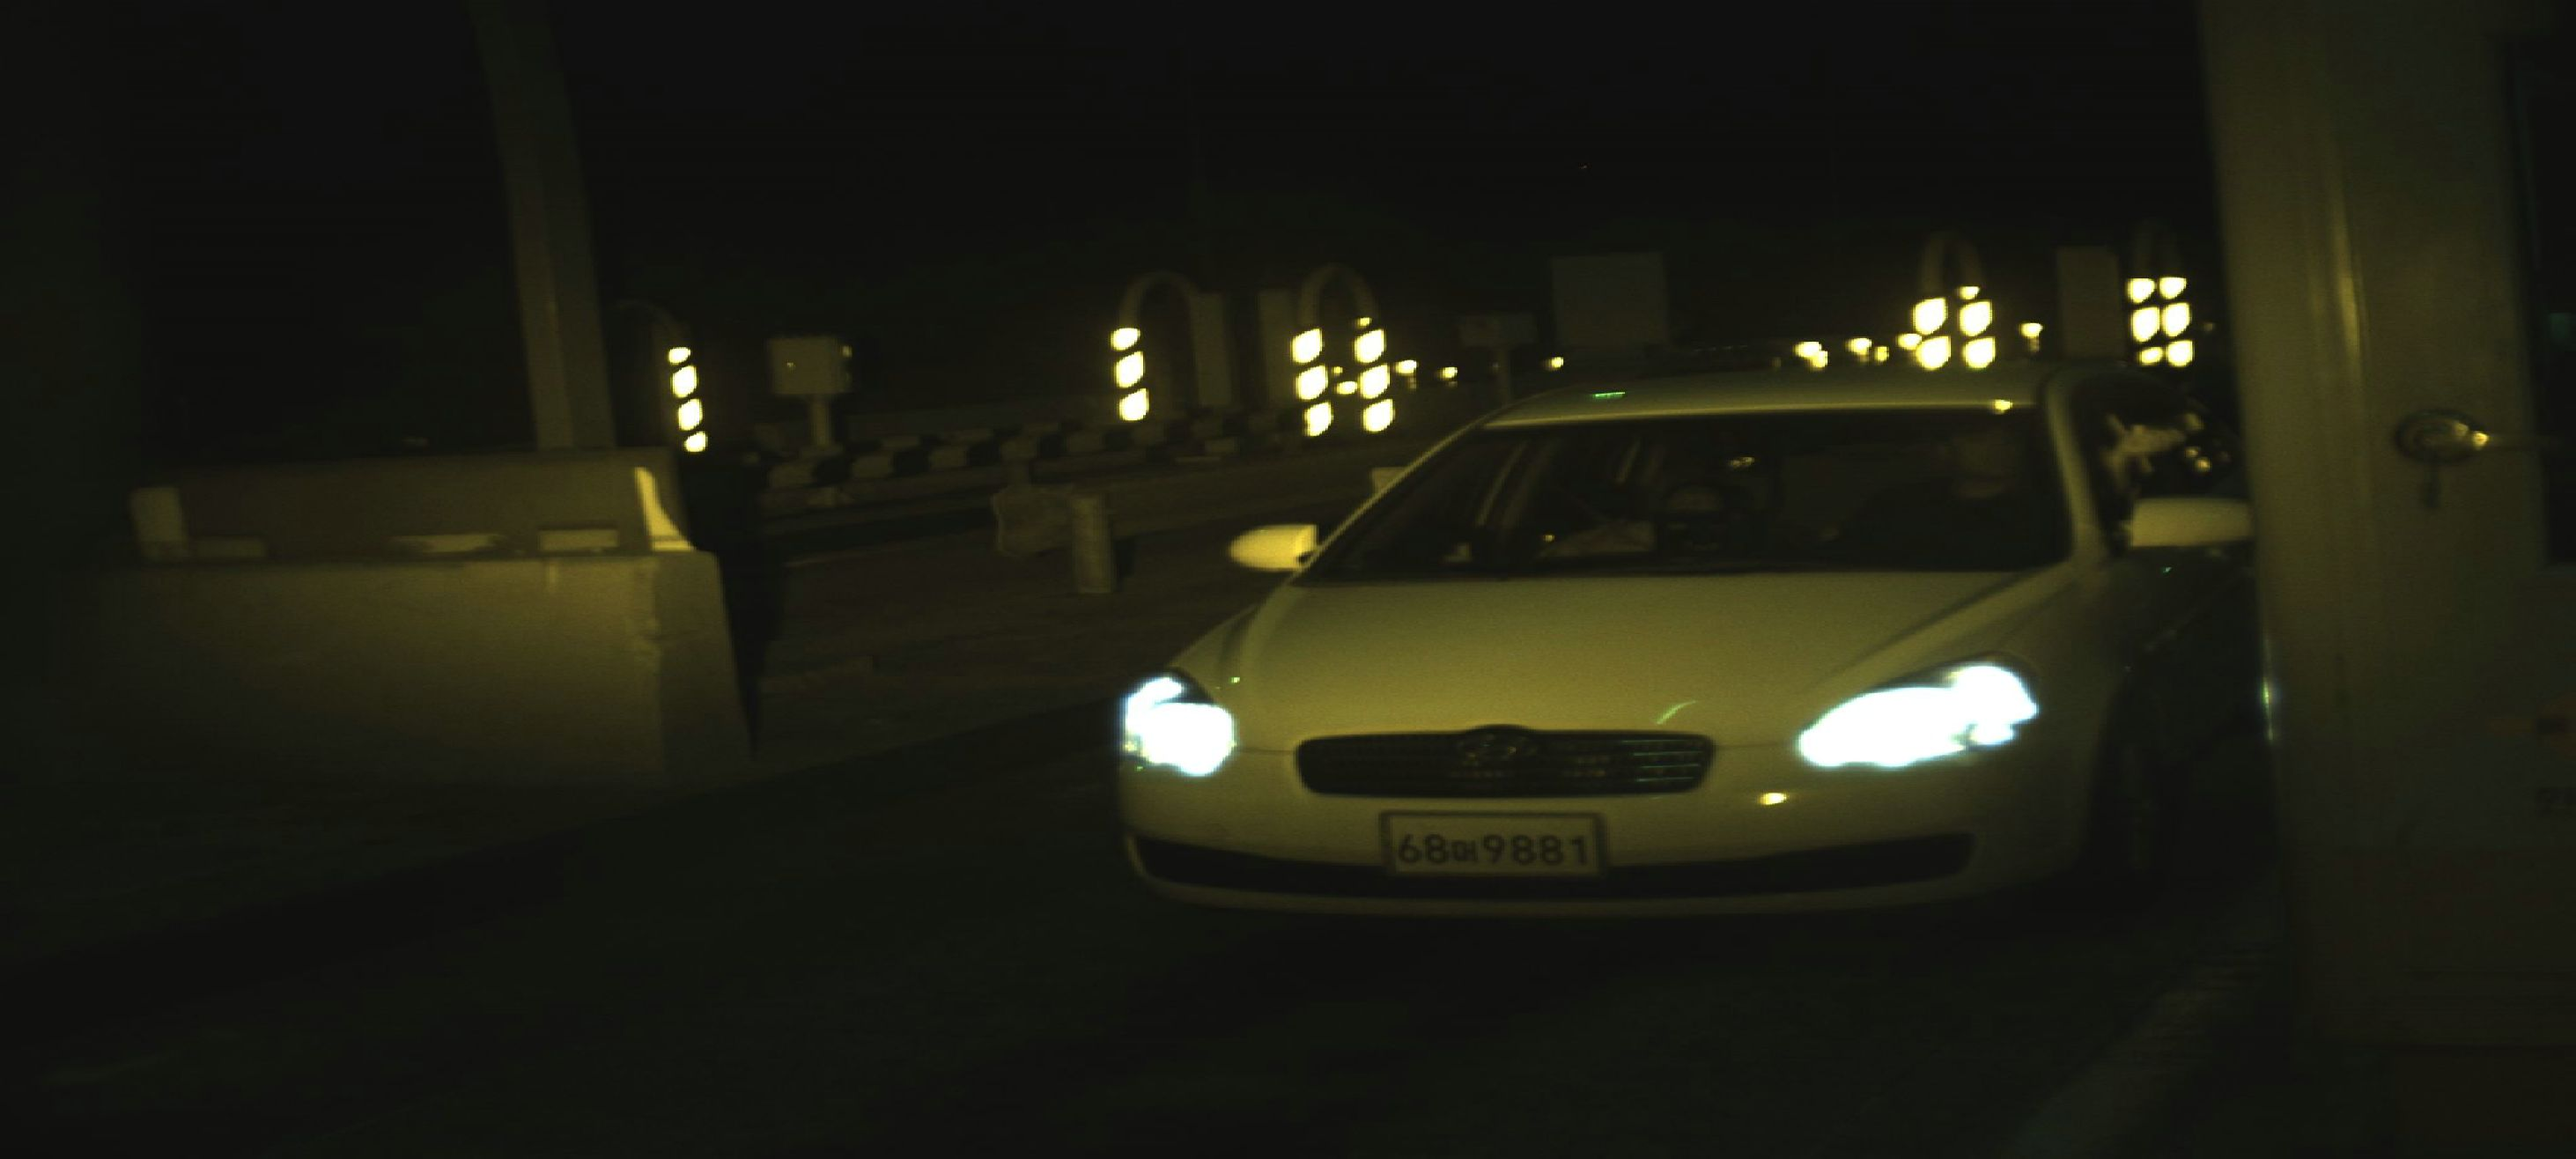car: (1111, 362, 2255, 941)
plate: (1380, 813, 1606, 880)
